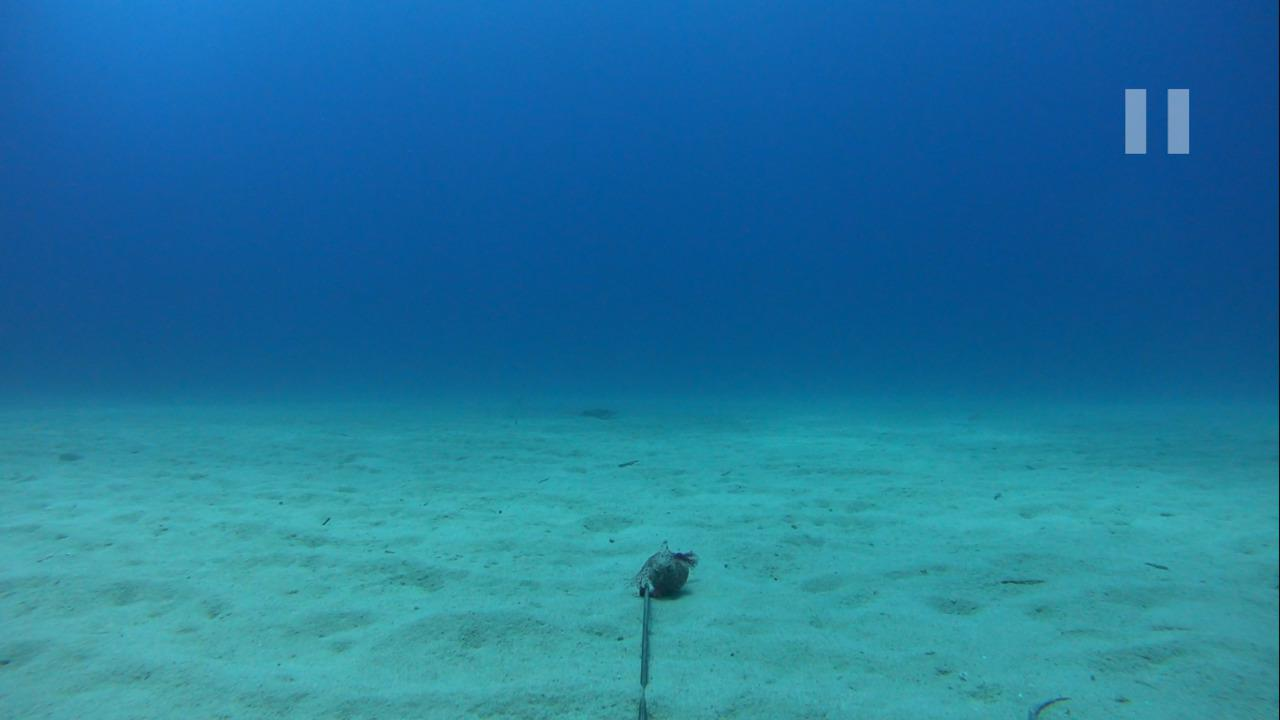myliobatis: (543, 400, 625, 431)
